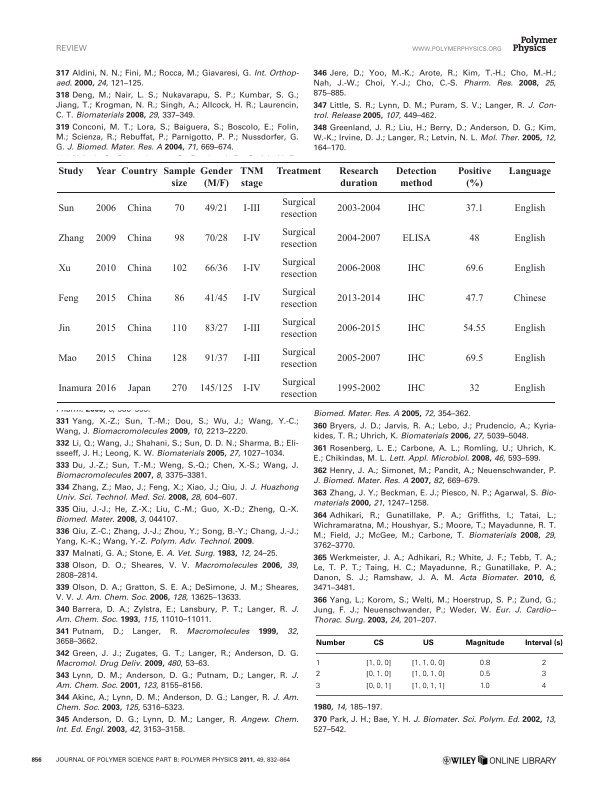borderless: (56, 161, 555, 402), (315, 633, 563, 695)
cell: (395, 167, 437, 190), (338, 167, 379, 190), (279, 227, 318, 251), (279, 198, 318, 221), (279, 257, 318, 280), (279, 287, 318, 310), (279, 317, 318, 340), (279, 347, 318, 370), (279, 377, 318, 400), (457, 167, 492, 190), (162, 167, 196, 190), (199, 167, 233, 190), (239, 167, 264, 190), (336, 233, 381, 245), (275, 167, 322, 178), (507, 167, 552, 178), (336, 204, 381, 215), (336, 263, 381, 274), (336, 293, 381, 304), (336, 323, 381, 334), (336, 353, 381, 364), (336, 383, 381, 394), (120, 167, 158, 178), (513, 233, 546, 245), (512, 293, 547, 304), (57, 383, 92, 394), (199, 383, 233, 394), (464, 639, 505, 648), (513, 204, 546, 215), (513, 263, 546, 274), (513, 323, 546, 334), (513, 353, 546, 364), (513, 383, 546, 394), (401, 233, 431, 245), (524, 639, 563, 648), (57, 233, 85, 245), (410, 658, 445, 667), (410, 681, 445, 690), (126, 233, 152, 245), (57, 167, 84, 178), (204, 233, 228, 245), (314, 639, 346, 648), (126, 204, 152, 215), (126, 263, 152, 274), (126, 293, 152, 304), (126, 323, 152, 334), (126, 353, 152, 364), (410, 670, 445, 678), (204, 204, 228, 215), (95, 233, 117, 245), (204, 263, 228, 274), (204, 293, 228, 304), (204, 323, 228, 334), (462, 323, 486, 334), (204, 353, 228, 364), (127, 383, 151, 394), (365, 658, 392, 667), (365, 681, 392, 690), (95, 167, 117, 178), (94, 204, 116, 215), (94, 263, 116, 274), (57, 293, 79, 304), (95, 293, 117, 304), (95, 323, 117, 334), (95, 353, 117, 364), (95, 383, 117, 394), (242, 233, 261, 245), (406, 204, 426, 215), (464, 204, 484, 215), (406, 263, 426, 274), (464, 263, 484, 274), (406, 293, 426, 304), (464, 293, 484, 304), (406, 323, 426, 334), (57, 353, 77, 364), (406, 353, 426, 364), (464, 353, 484, 364), (406, 383, 426, 394), (365, 670, 392, 678), (242, 204, 261, 215), (242, 263, 261, 274), (242, 293, 261, 304), (242, 323, 261, 334), (242, 353, 261, 364), (242, 383, 261, 394), (57, 204, 75, 215), (171, 263, 188, 274), (171, 353, 188, 364), (171, 383, 188, 394), (171, 323, 187, 334), (57, 263, 71, 274), (57, 323, 71, 334), (173, 233, 185, 245), (468, 233, 480, 245), (173, 204, 185, 215), (173, 293, 185, 304), (468, 383, 480, 394), (421, 639, 434, 648), (372, 639, 384, 648), (478, 658, 491, 666), (478, 670, 491, 677), (479, 681, 490, 689), (314, 658, 321, 666), (540, 658, 546, 666), (315, 681, 321, 689), (540, 681, 546, 689), (315, 670, 321, 677), (540, 670, 546, 677)
